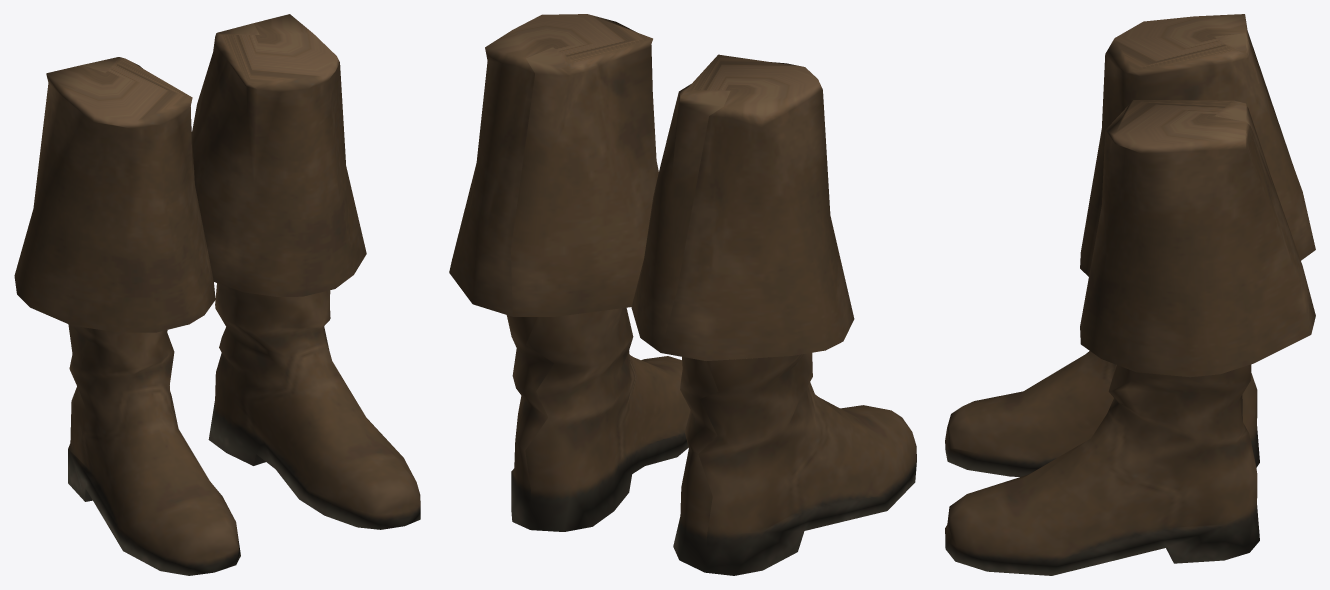
File: PirateBoots_Ground.fbx
The picture shows the model from 3 angles, left to right: view 1: azimuth 30°, elevation 25°; view 2: azimuth 150°, elevation 25°; view 3: azimuth 270°, elevation 25°; orthographic projection. The views are drawn at different scales.
Visible parts, largest first — view 1: PirateBoots; view 2: PirateBoots; view 3: PirateBoots.
Part boxes in pixels (x1,y1,x2,y2): PirateBoots: (14, 14, 420, 575); PirateBoots: (449, 14, 916, 575); PirateBoots: (945, 14, 1315, 575).
Bounding box in the file's own units: 0.1924 × 0.2291 × 0.179.
